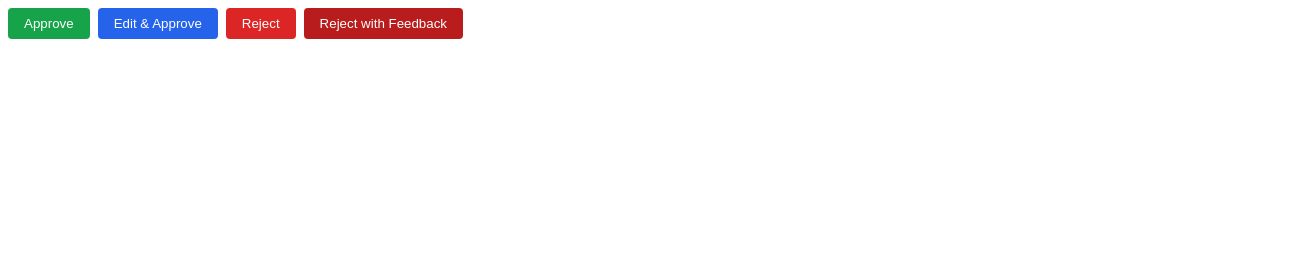
Test: HilActionButtons › reveals textarea when Edit & Approve button clicked
This screenshot has width=1292, height=263.
Click the button with test id "btn-edit-approve". click: coordinates (158, 24)
box: [98, 8, 218, 39]
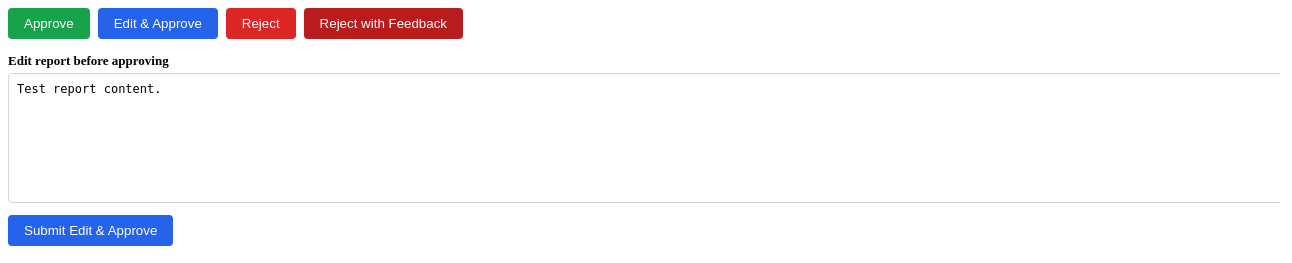
Expected: the element with test id "edit-approve-panel" is shown
